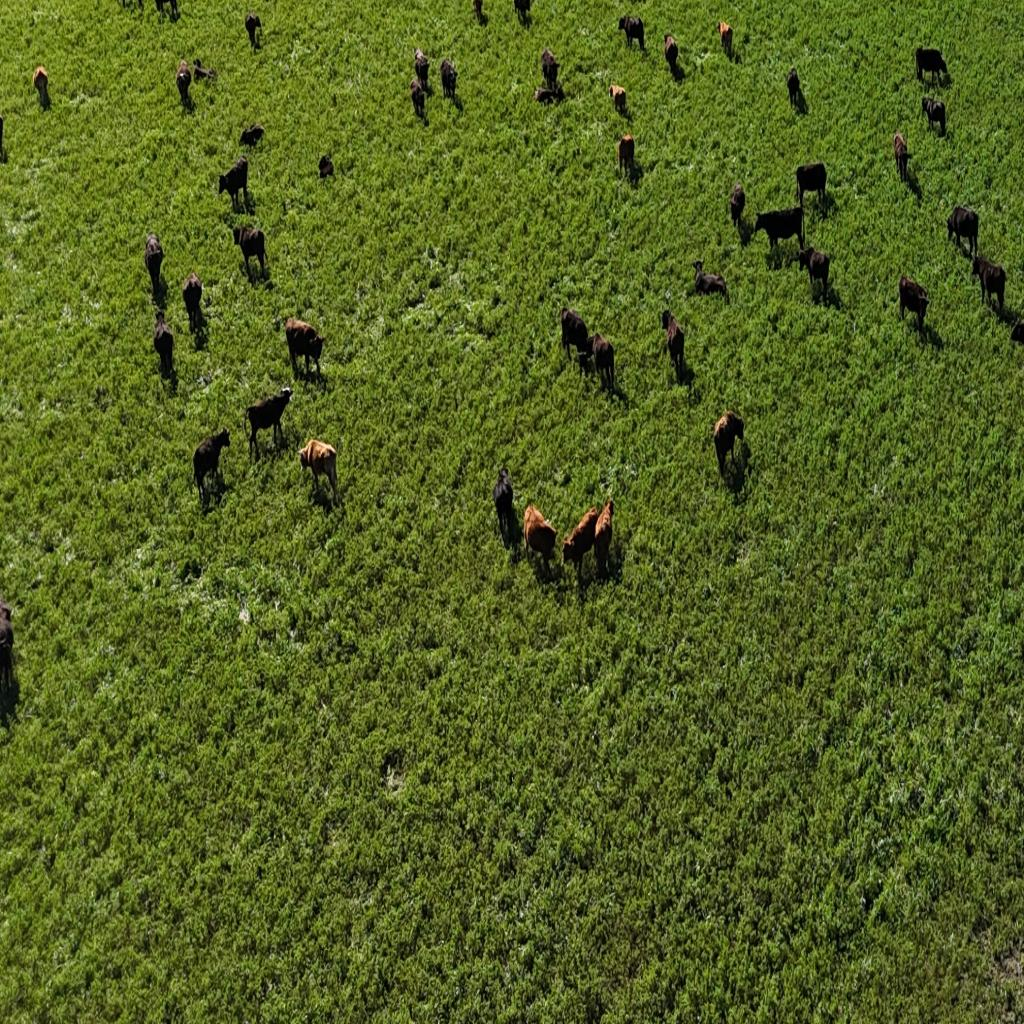cow: (966, 232, 1014, 336), (180, 244, 217, 363), (294, 436, 350, 512), (791, 230, 842, 310), (244, 384, 294, 459), (280, 308, 330, 380), (910, 86, 960, 156), (564, 494, 598, 596), (751, 204, 816, 253), (585, 495, 618, 590), (192, 429, 229, 502), (523, 502, 557, 576), (437, 36, 468, 117), (712, 408, 744, 479), (530, 46, 564, 110), (232, 224, 267, 282), (177, 60, 219, 108), (561, 306, 591, 368), (898, 276, 930, 334), (588, 330, 615, 394), (218, 153, 248, 209), (795, 161, 827, 212), (493, 468, 515, 542), (947, 204, 978, 256), (662, 310, 685, 379), (691, 258, 727, 300), (152, 310, 174, 377), (0, 600, 16, 692), (915, 46, 948, 87), (144, 231, 164, 298), (618, 13, 644, 50), (618, 131, 636, 177), (729, 181, 745, 230), (893, 130, 908, 180), (33, 66, 50, 110), (414, 46, 430, 91), (786, 66, 801, 109), (411, 78, 426, 120), (240, 123, 265, 148), (608, 82, 626, 116), (154, 0, 180, 23), (245, 11, 261, 47), (664, 32, 679, 69), (718, 20, 733, 54), (513, 0, 532, 26), (318, 154, 334, 178), (472, 0, 484, 23)
